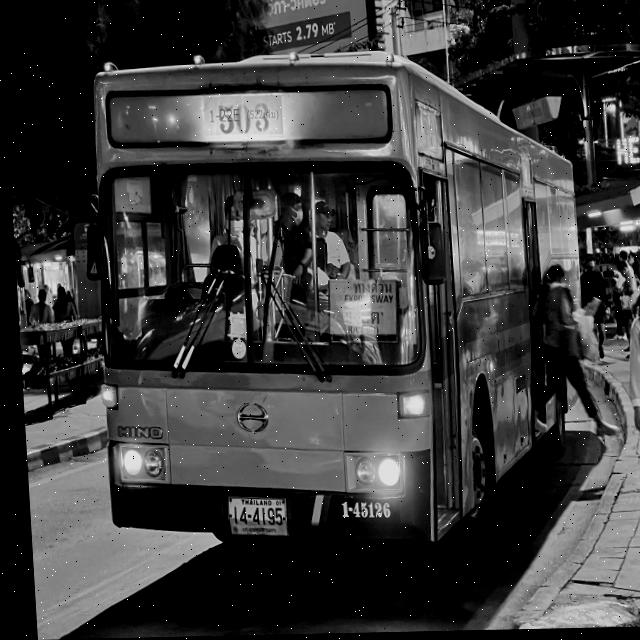BMTA-bus: (71, 39, 600, 569)
Bus-Line-Number: (197, 93, 285, 139)
Destination-Sign-Normal: (323, 276, 395, 343)
